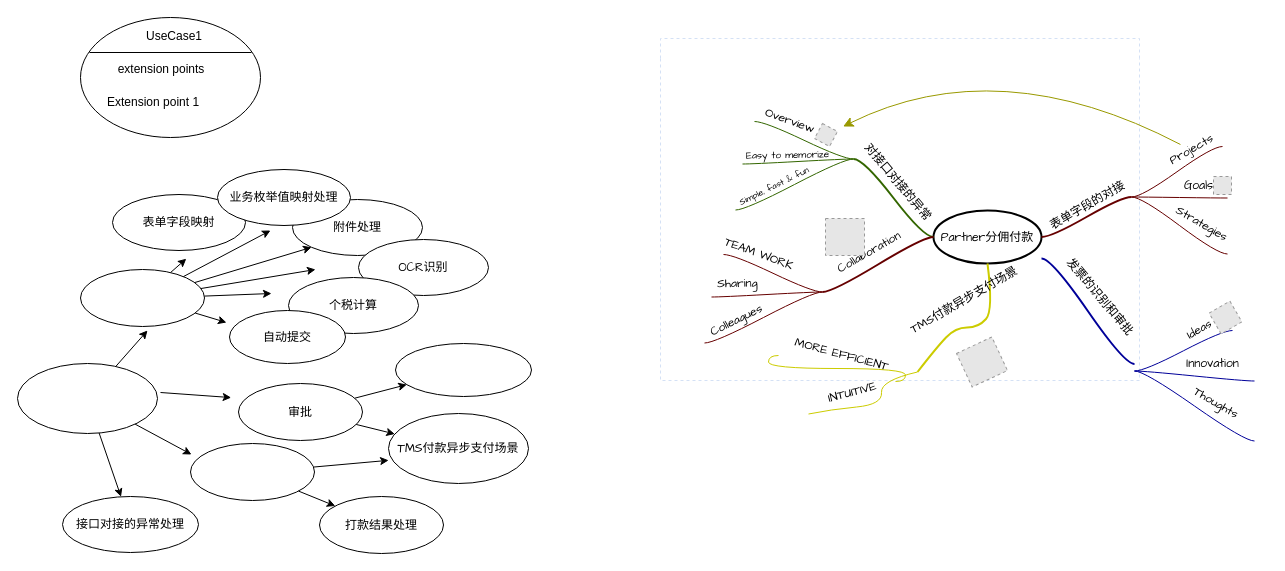
Image size: 1285x571. Some labels were removed from this diagram. Grey dashed boxes stand in for pictures. Each missing label, with the box of its shape:
Dash提交流程: (80, 268, 204, 326)
Mindmap: (660, 38, 1140, 380)
Partner分佣付款/: (16, 362, 158, 434)
发票的审批: (394, 342, 532, 396)
打款: (190, 442, 314, 500)
